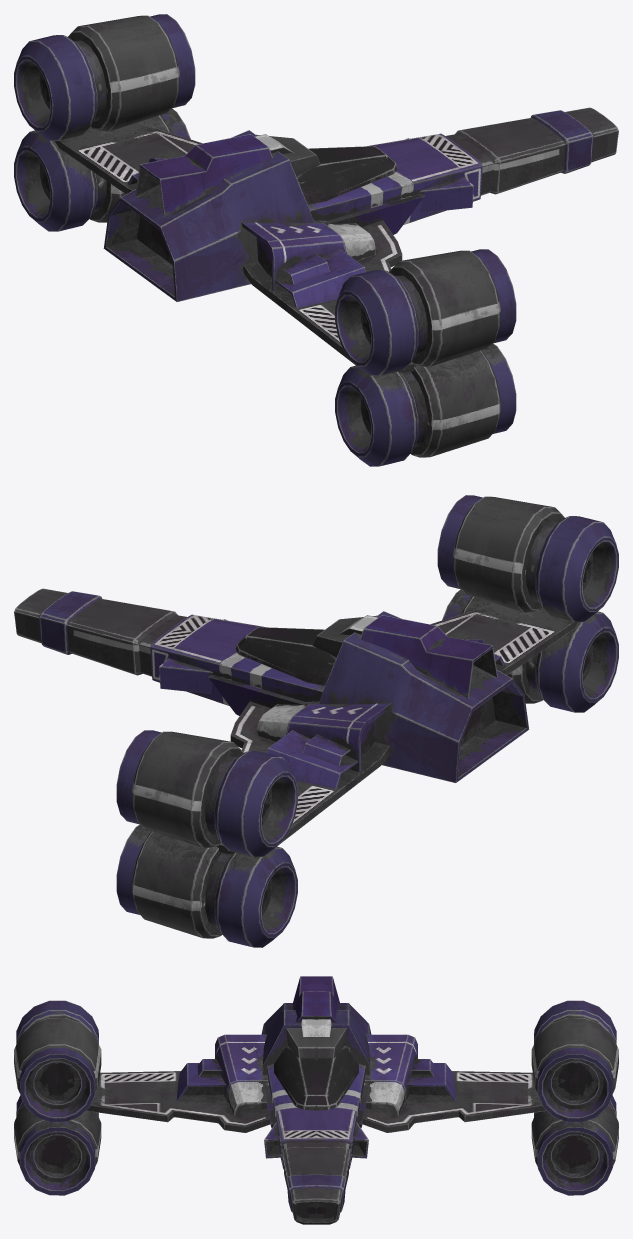
File: spread-ship.glb
3 renders of one model, top to bottom at view 1: azimuth 30°, elevation 25°; view 2: azimuth 150°, elevation 25°; view 3: azimuth 270°, elevation 25°, orthographic. The views are drawn at different scales.
Parts seen in each view (by area): view 1: Spitfire; view 2: Spitfire; view 3: Spitfire.
Boxes of the visible parts, box(x1,y1,x2,y2) form: Spitfire: box(14, 14, 618, 466); Spitfire: box(14, 495, 618, 947); Spitfire: box(14, 976, 618, 1224).
Size of the model in its own units: 3.2 by 1.3 by 4.47.
1 material, 1 textured.
